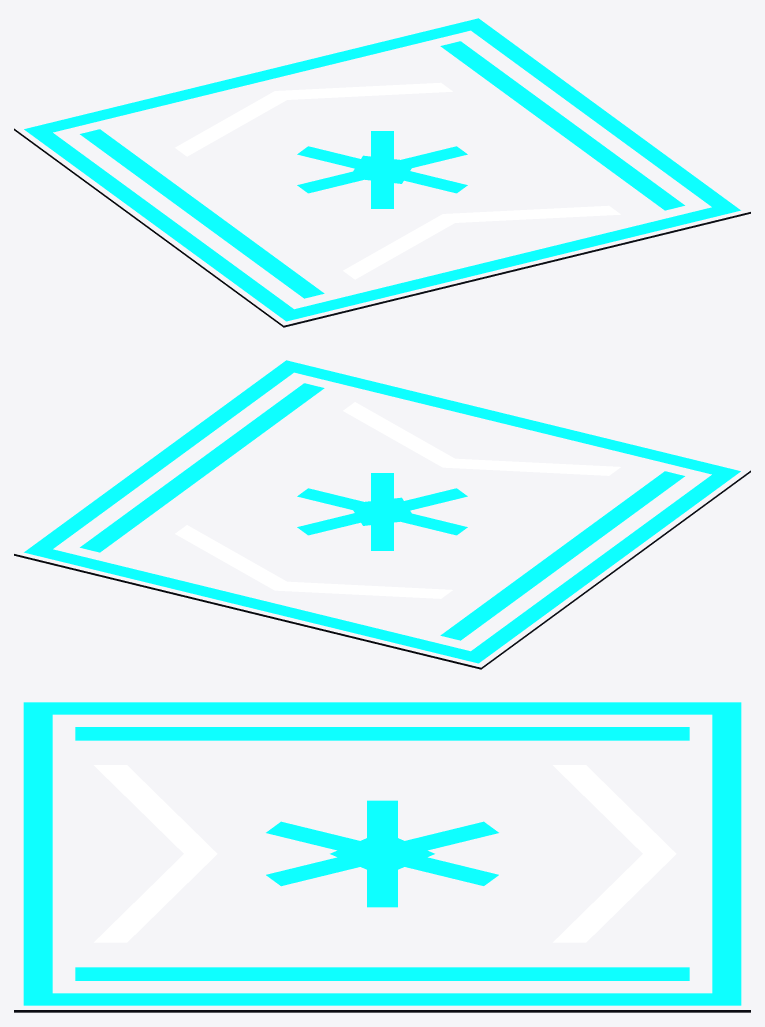
File: OVL_Arena_Active_Ice.glb
The picture shows the model from 3 angles, top to bottom: view 1: azimuth 30°, elevation 25°; view 2: azimuth 150°, elevation 25°; view 3: azimuth 270°, elevation 25°; orthographic projection. The views are drawn at different scales.
Visible parts, largest first — view 1: OVL_ActiveIce_FrostBorder, OVL_ActiveIce_FrostRails, OVL_ActiveIce_PaleChevrons, OVL_ActiveIce_SnowflakeIcon, OVL_Carrier_ActiveIce; view 2: OVL_ActiveIce_FrostBorder, OVL_ActiveIce_FrostRails, OVL_ActiveIce_PaleChevrons, OVL_ActiveIce_SnowflakeIcon, OVL_Carrier_ActiveIce; view 3: OVL_ActiveIce_FrostBorder, OVL_ActiveIce_FrostRails, OVL_ActiveIce_PaleChevrons, OVL_ActiveIce_SnowflakeIcon, OVL_Carrier_ActiveIce.
Part boxes in pixels (bbox=[...]): OVL_ActiveIce_FrostBorder: bbox=[24, 18, 740, 321]; OVL_ActiveIce_FrostRails: bbox=[80, 41, 684, 298]; OVL_ActiveIce_PaleChevrons: bbox=[175, 82, 620, 279]; OVL_ActiveIce_SnowflakeIcon: bbox=[297, 131, 467, 208]; OVL_Carrier_ActiveIce: bbox=[14, 128, 750, 327]; OVL_ActiveIce_FrostBorder: bbox=[24, 360, 740, 663]; OVL_ActiveIce_FrostRails: bbox=[80, 383, 684, 640]; OVL_ActiveIce_PaleChevrons: bbox=[175, 402, 620, 598]; OVL_ActiveIce_SnowflakeIcon: bbox=[297, 473, 467, 550]; OVL_Carrier_ActiveIce: bbox=[14, 470, 750, 669]; OVL_ActiveIce_FrostBorder: bbox=[23, 702, 741, 1005]; OVL_ActiveIce_FrostRails: bbox=[75, 727, 689, 980]; OVL_ActiveIce_PaleChevrons: bbox=[94, 765, 676, 942]; OVL_ActiveIce_SnowflakeIcon: bbox=[266, 800, 498, 907]; OVL_Carrier_ActiveIce: bbox=[14, 1010, 750, 1012].
Size of the model in its own units: 11.4 by 0.05 by 11.4.
4 materials, 4 textured.
